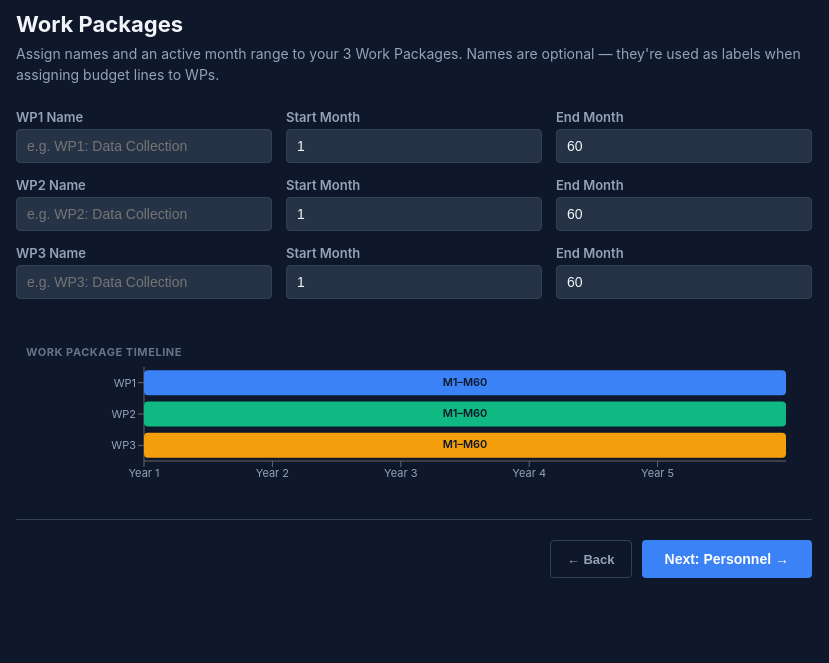
Scenario: Work Packages step › names the uncovered months as soon as the ranges leave a gap
The width and height of the screenshot is (829, 663).
Replace the text in the number field with id "wp-1-end" with "24" at [684, 214], box [556, 197, 812, 231]
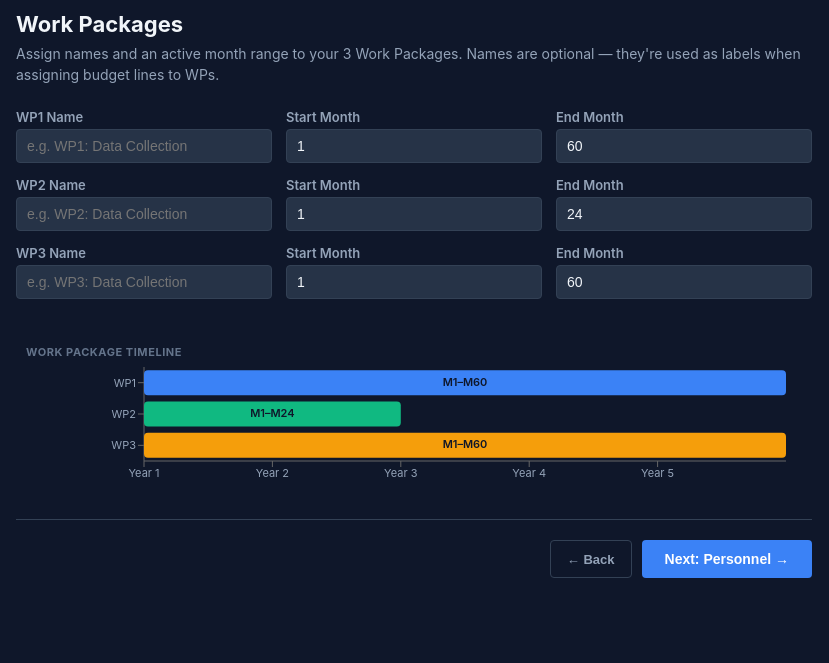
Replace the text in the number field with id "wp-2-end" with "12" at [684, 282], box [556, 265, 812, 299]
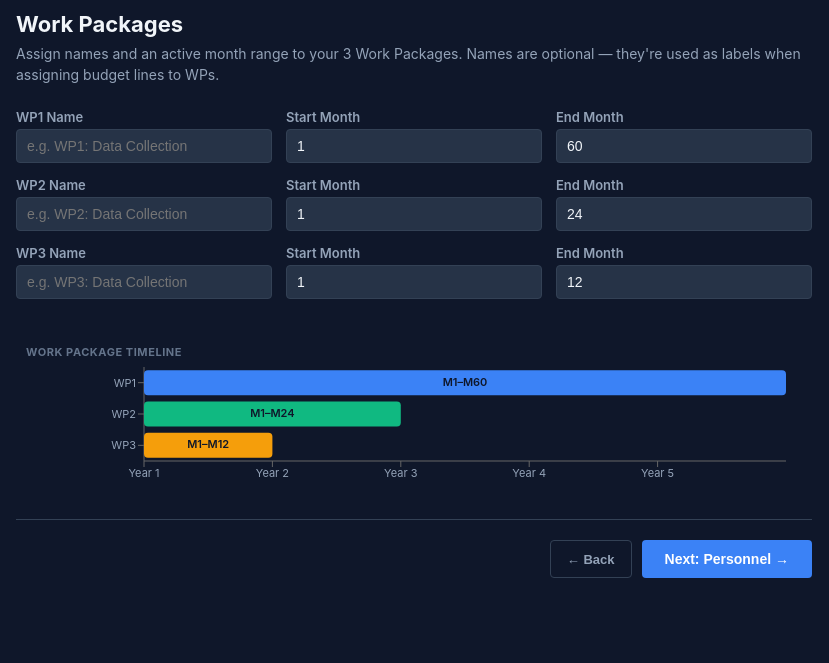
Replace the text in the number field with id "wp-0-end" with "12" at [684, 146], box [556, 129, 812, 163]
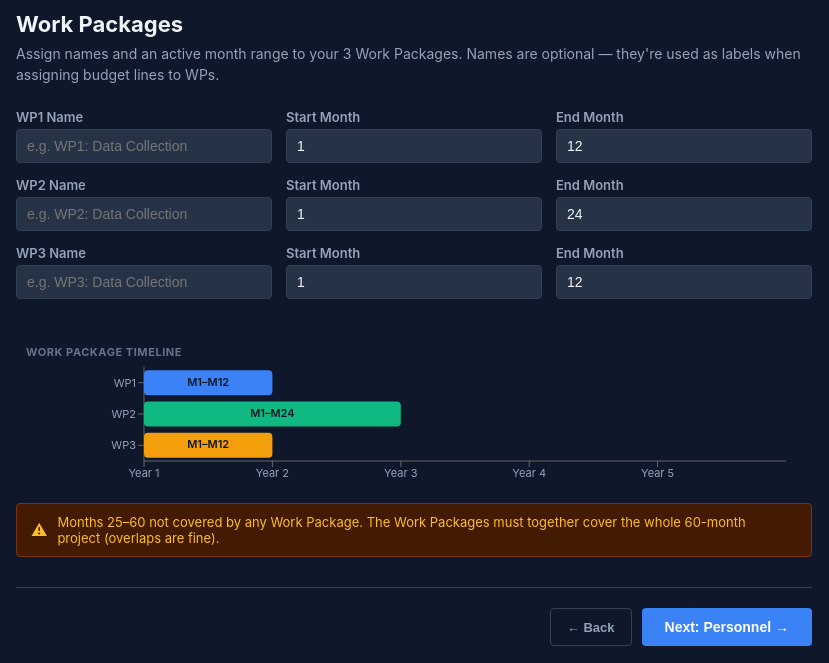
Now the text "whole 60-month project" is shown, box [57, 514, 746, 546]
